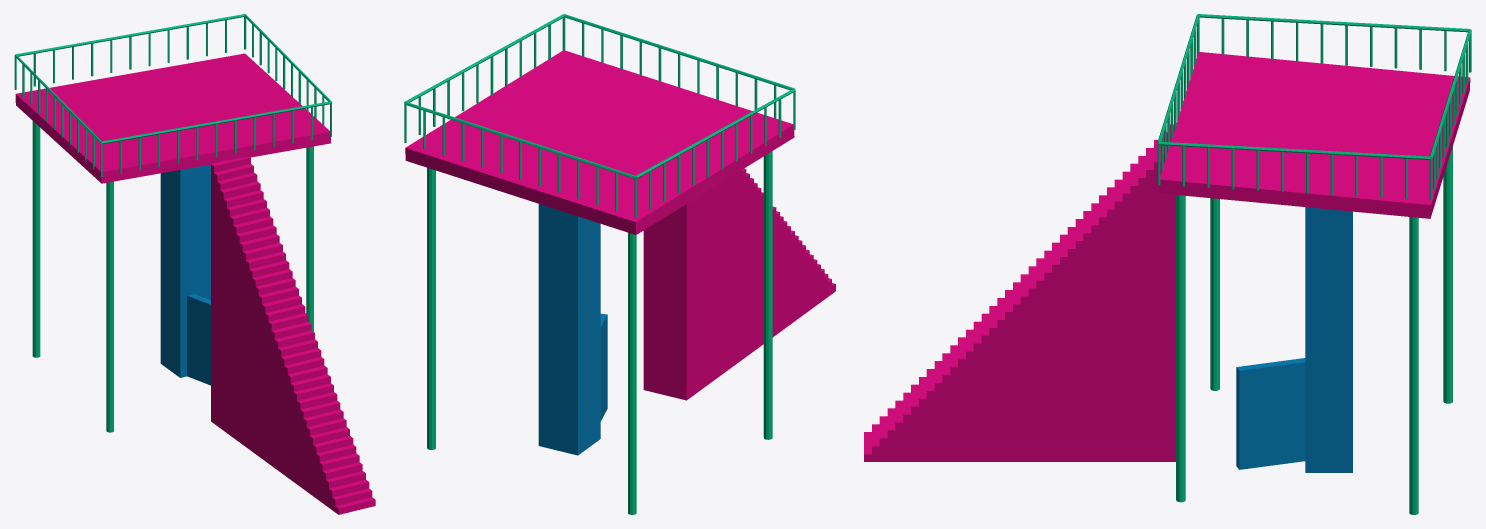
Rendered from folie_tag_045.glb.
The picture shows the model from 3 angles, left to right: view 1: azimuth 30°, elevation 25°; view 2: azimuth 150°, elevation 25°; view 3: azimuth 270°, elevation 25°; orthographic projection. The views are drawn at different scales.
Visible parts, largest first — view 1: folie_tag_045_stairs, folie_tag_045_00_plate, folie_tag_045_line, folie_tag_045_core, folie_tag_045_01_panel; view 2: folie_tag_045_00_plate, folie_tag_045_stairs, folie_tag_045_line, folie_tag_045_core, folie_tag_045_01_panel; view 3: folie_tag_045_stairs, folie_tag_045_00_plate, folie_tag_045_line, folie_tag_045_core, folie_tag_045_01_panel.
Boxes of the visible parts, x1,y1,x2,y2 form: folie_tag_045_stairs: [211, 156, 375, 514]; folie_tag_045_00_plate: [15, 53, 330, 183]; folie_tag_045_line: [14, 14, 332, 432]; folie_tag_045_core: [160, 164, 210, 377]; folie_tag_045_01_panel: [187, 294, 210, 385]; folie_tag_045_00_plate: [405, 50, 794, 234]; folie_tag_045_stairs: [643, 168, 835, 400]; folie_tag_045_line: [404, 14, 795, 514]; folie_tag_045_core: [538, 204, 600, 455]; folie_tag_045_01_panel: [600, 313, 607, 421]; folie_tag_045_stairs: [864, 124, 1175, 461]; folie_tag_045_00_plate: [1158, 52, 1470, 218]; folie_tag_045_line: [1157, 14, 1471, 514]; folie_tag_045_core: [1305, 207, 1352, 472]; folie_tag_045_01_panel: [1236, 358, 1305, 469].
Bounding box in the file's own units: 7.83 × 9.26 × 13.96.
